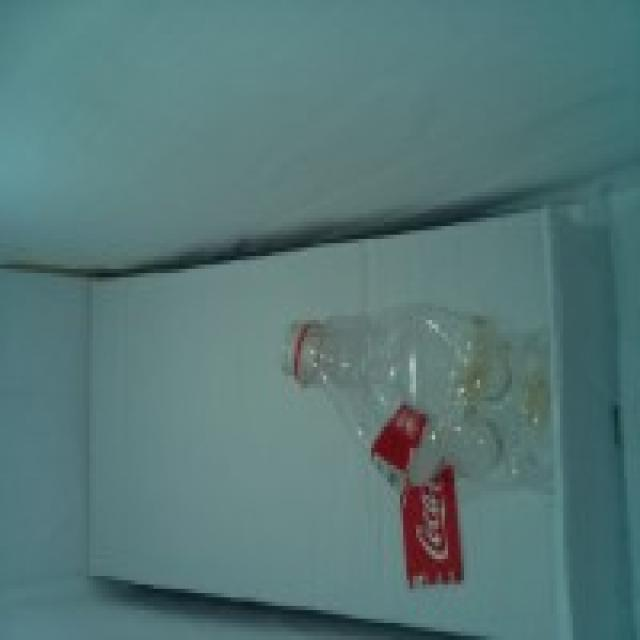plastic_bottle: (274, 305, 553, 492)
